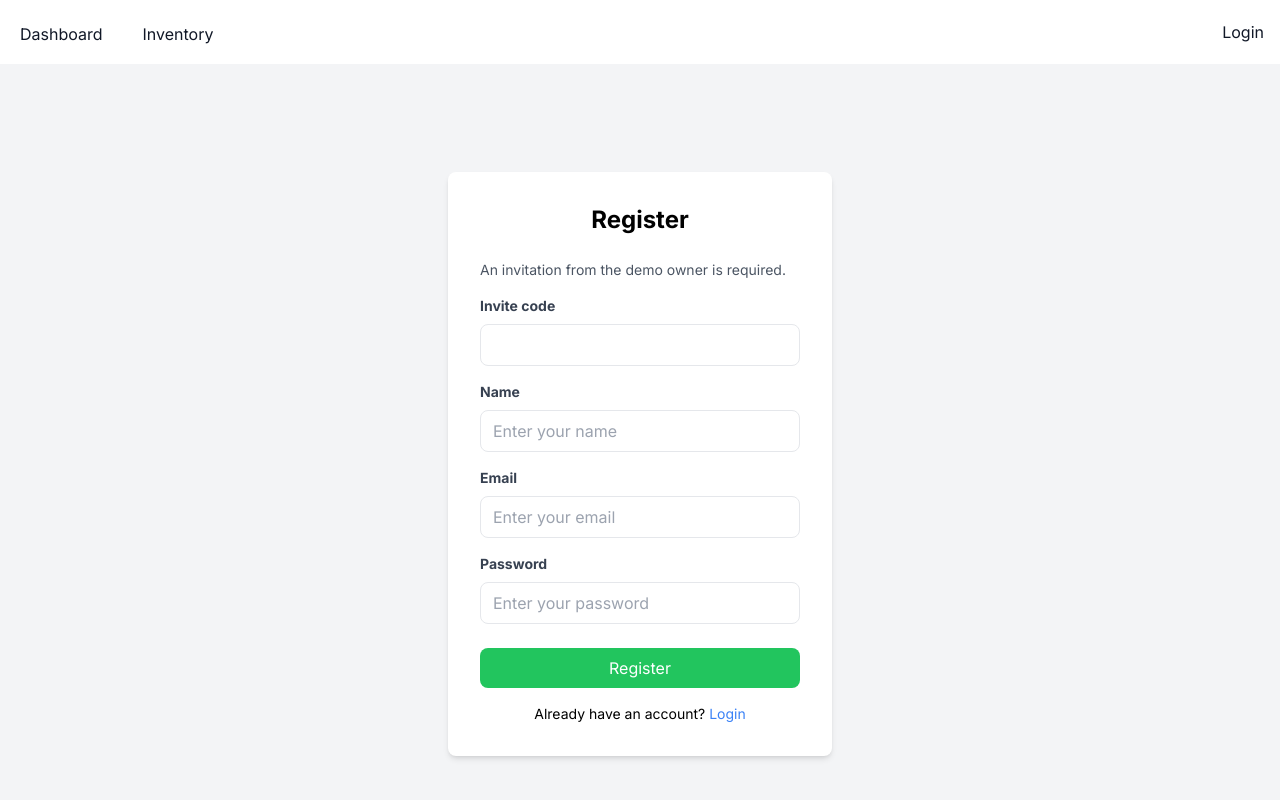
register › a successful registration stores the session and shows the dashboard
Step 1. Type "test-invitation" into the password field labelled "Invite code" → (640, 345), box [480, 324, 800, 366]
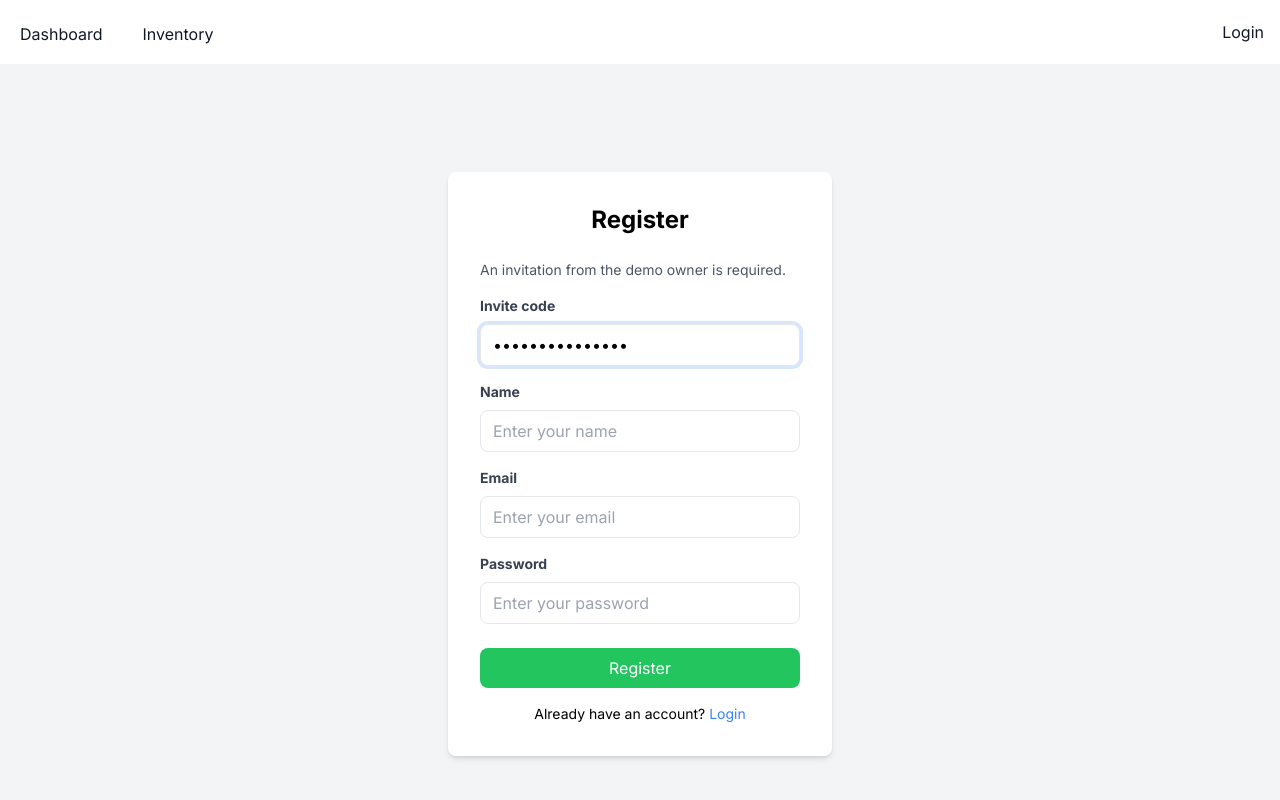
Step 2. Type "Test User" into the field with placeholder "Enter your name" → (640, 431), box [480, 410, 800, 452]
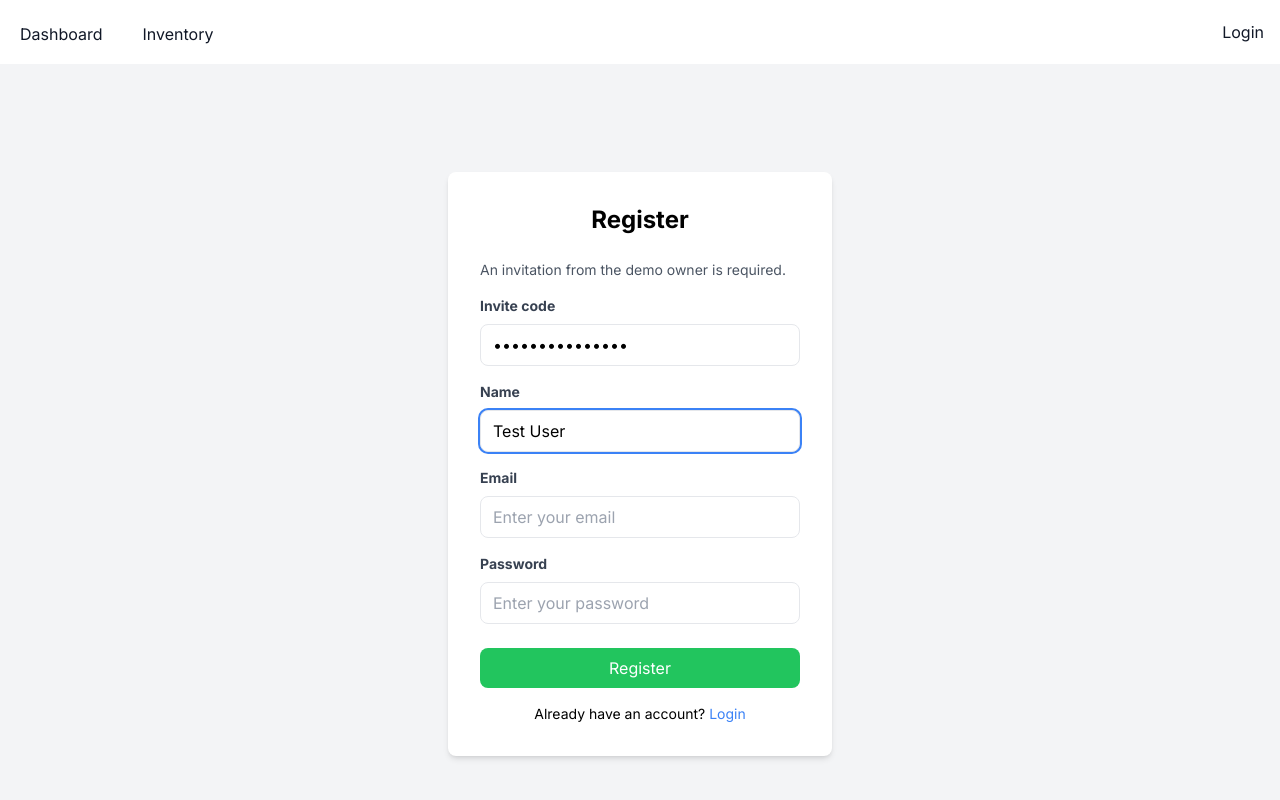
Step 3. Type "test.user@example.com" into the field with placeholder "Enter your email" → (640, 517), box [480, 496, 800, 538]
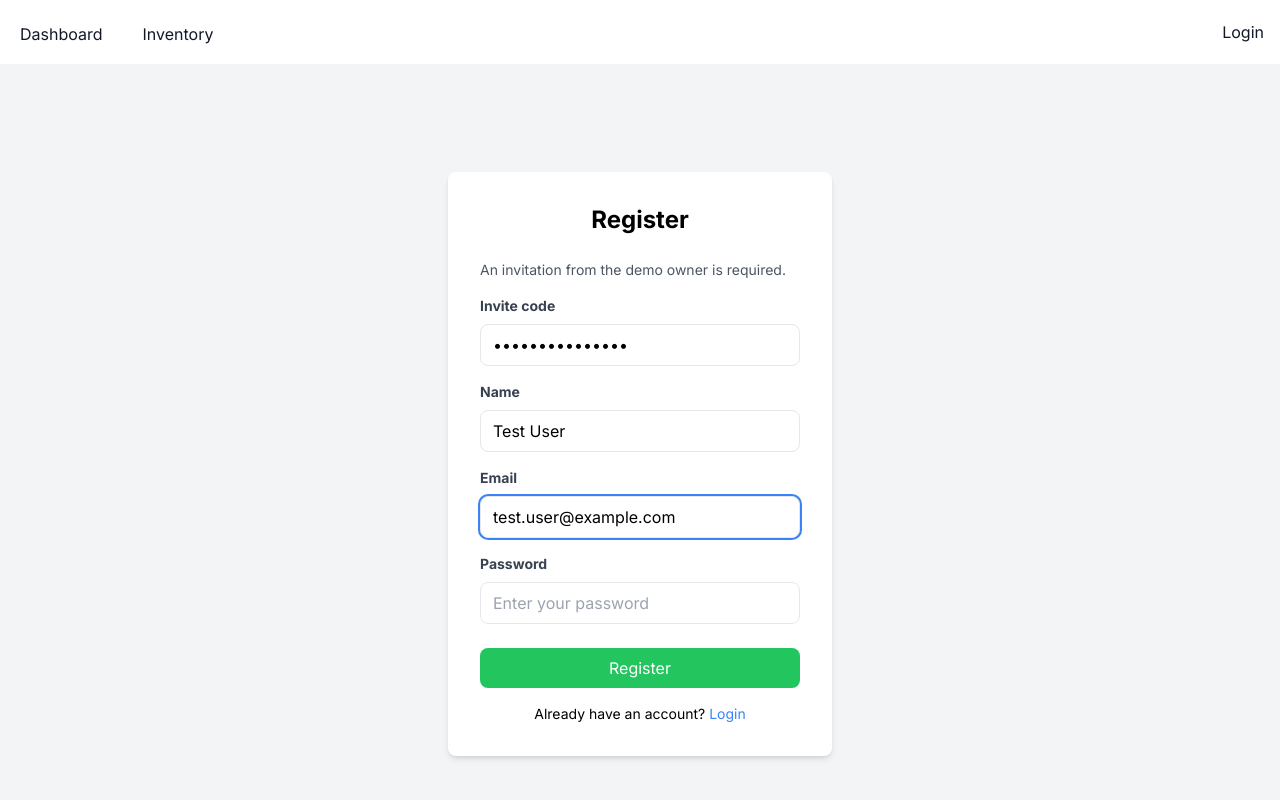
Step 4. Type "not-a-real-password" into the password field with placeholder "Enter your password" → (640, 603), box [480, 582, 800, 624]
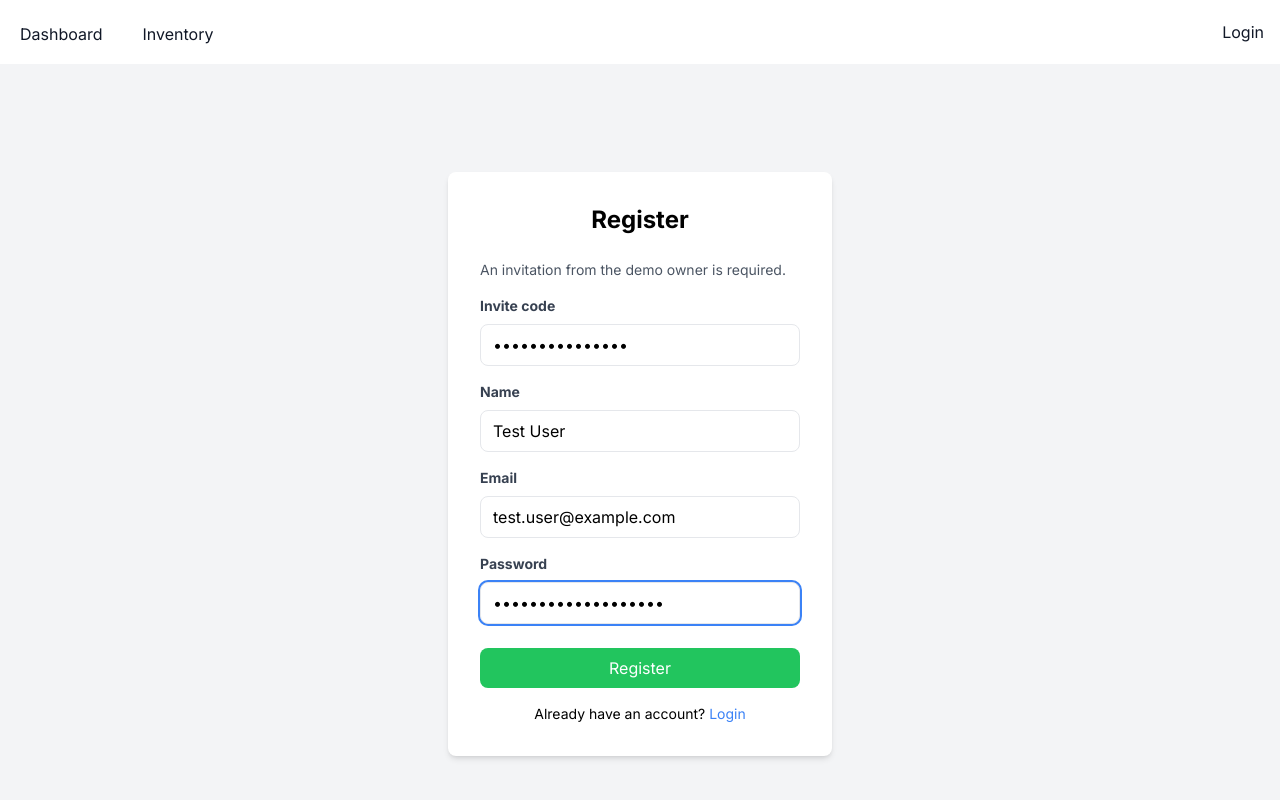
Step 5. Click the button "Register" → (640, 668), box [480, 648, 800, 688]
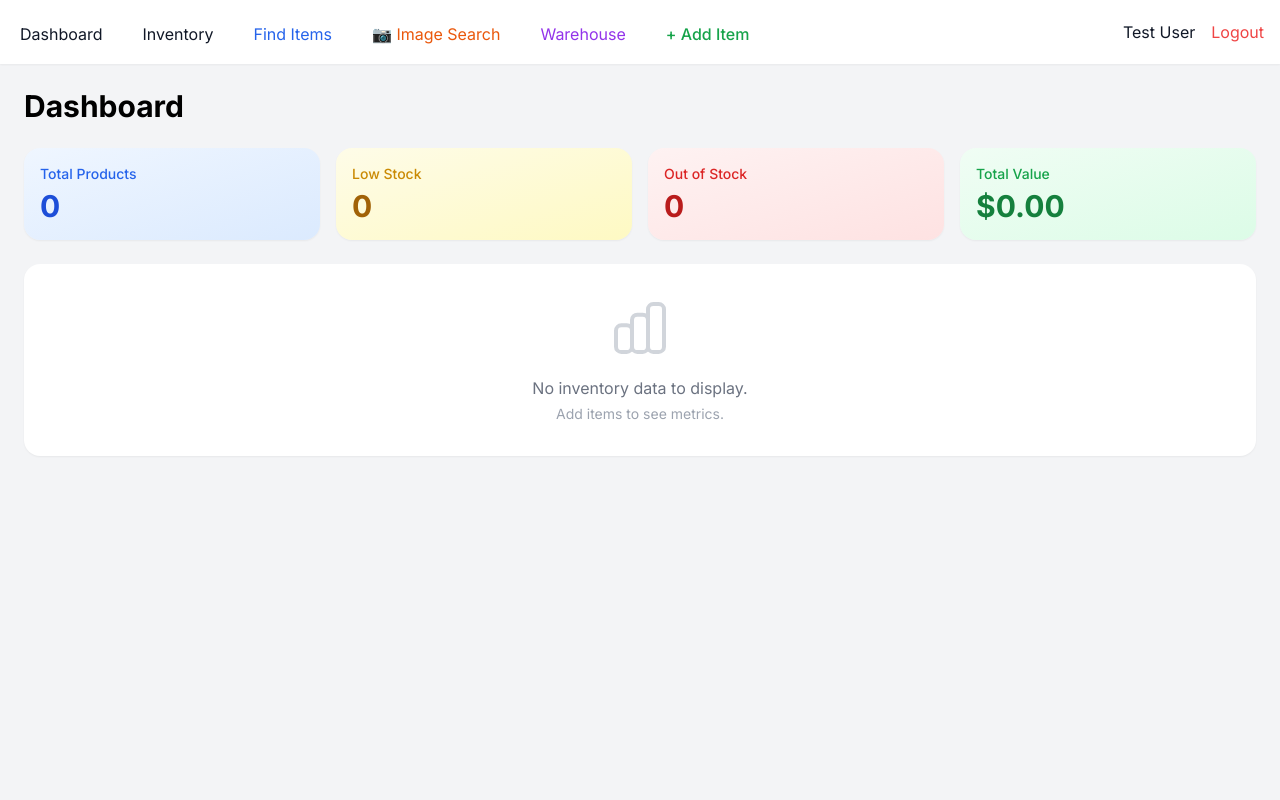
Now the heading "Dashboard" is shown, box [24, 88, 184, 124]
Now the link "Test User" is shown, box [1123, 20, 1195, 44]
